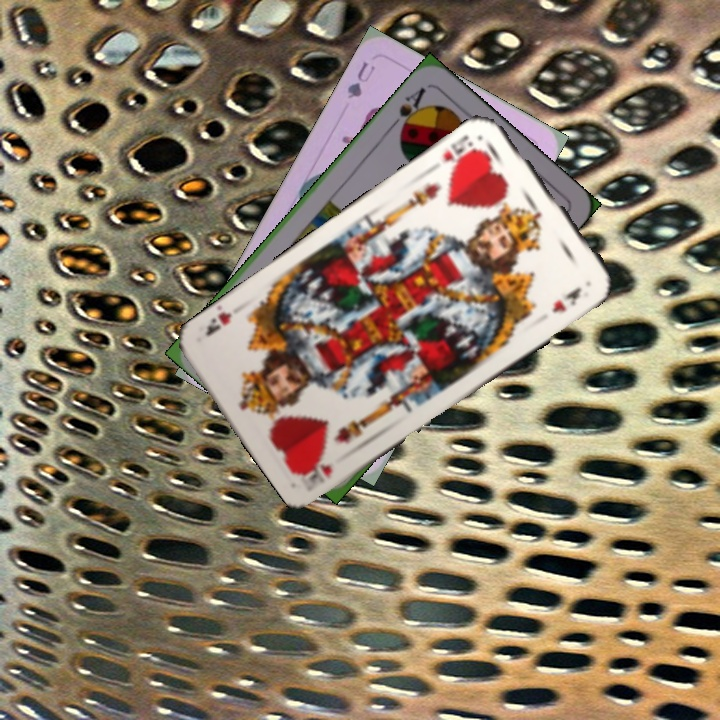GU: (343, 57, 378, 101)
HK: (438, 130, 483, 171), (301, 460, 335, 487)
SA: (386, 83, 429, 137)
